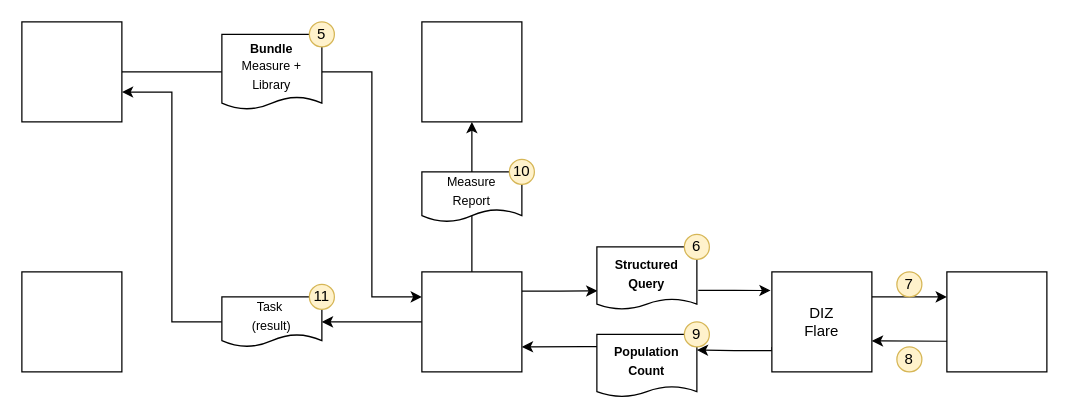
The diagram is 1069 pixels wide and 419 high, and some of its shapes have lost their labels. The centre of each missing label's shape, as x and y in pixels:
DIZ BPE: (x=471, y=321)
DIZ FHIR: (x=471, y=71)
DIZ FHIR Data: (x=996, y=321)
HRP BPE: (x=71, y=321)
HRP FHIR: (x=71, y=71)
